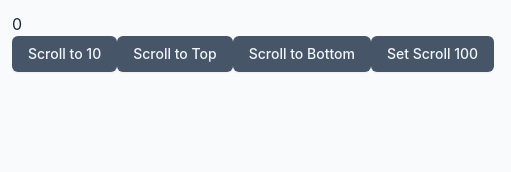
Test: useVirtualizedList Hook › manages scroll state correctly
Expected: the text with test id "scroll-top" reads "0", [12,14,22,34]
# Set scroll position
Click the button "Set Scroll 100".
click(432, 54)  # box [371,36,494,72]
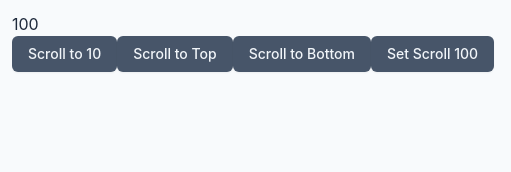
Expected: the text with test id "scroll-top" reads "100", [12,14,39,34]
# Scroll to top
Click the button "Scroll to Top".
click(175, 54)  # box [117,36,233,72]
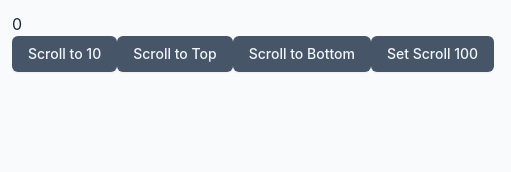
Expected: the text with test id "scroll-top" reads "0", [12,14,22,34]
